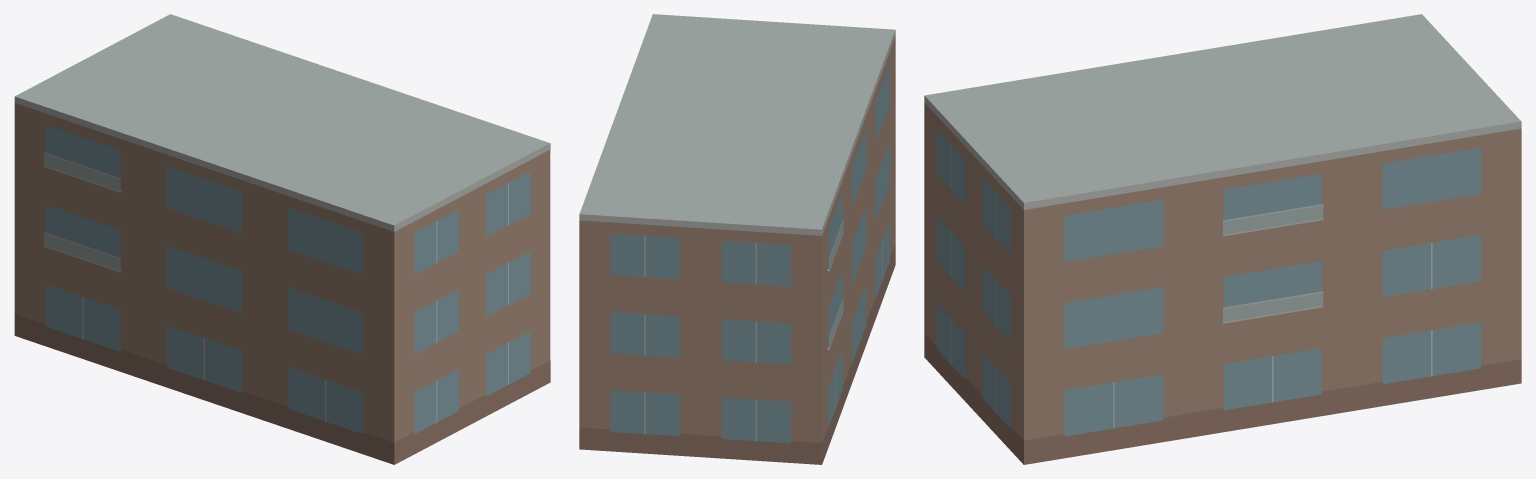
Rendered from survey-upis-32698437.glb.
The picture shows the model from 3 angles, left to right: view 1: azimuth 30°, elevation 25°; view 2: azimuth 150°, elevation 25°; view 3: azimuth 270°, elevation 25°; orthographic projection. The views are drawn at different scales.
Visible parts, largest first — view 1: survey-upis-32698437.tmp; view 2: survey-upis-32698437.tmp; view 3: survey-upis-32698437.tmp.
Part boxes in pixels (x1,y1,x2,y2): survey-upis-32698437.tmp: (14,14,550,464); survey-upis-32698437.tmp: (579,14,895,464); survey-upis-32698437.tmp: (924,14,1521,464).
Bounding box in the file's own units: 14.18 × 9.15 × 18.92.
